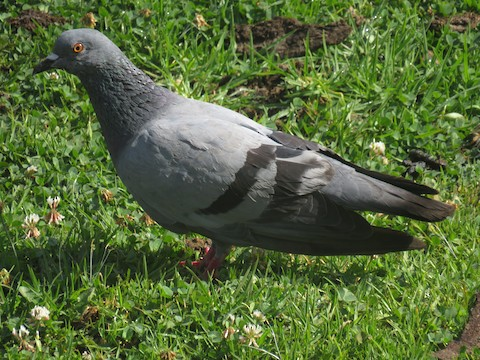pigeon: (28, 25, 453, 276)
